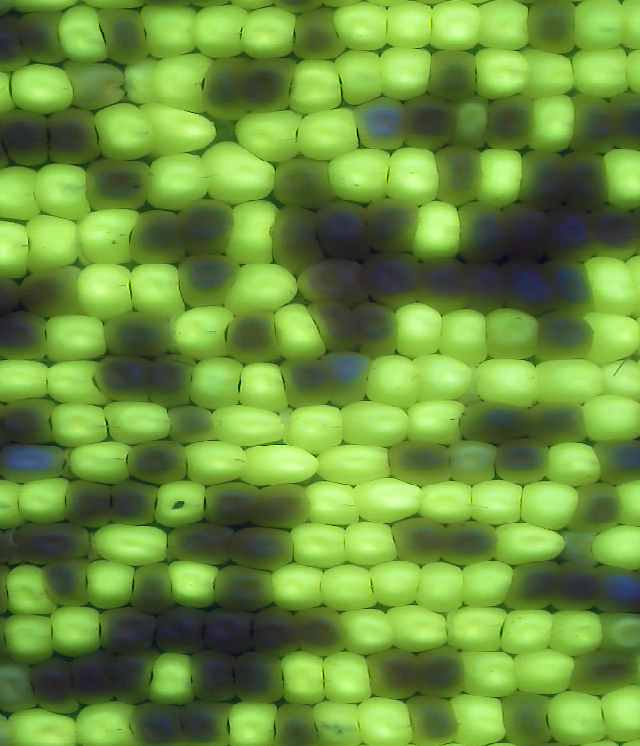fluorescent: (203, 143, 273, 204), (249, 440, 323, 489), (78, 208, 142, 264), (297, 107, 362, 162), (148, 102, 213, 156), (286, 57, 342, 118), (35, 160, 91, 221), (234, 112, 301, 162), (11, 60, 73, 114), (230, 197, 277, 268), (330, 149, 392, 202), (584, 253, 637, 315), (470, 359, 538, 407), (538, 361, 608, 407), (317, 440, 390, 484), (240, 6, 297, 62), (185, 358, 244, 412), (148, 153, 213, 202), (339, 401, 413, 444), (548, 691, 604, 746), (170, 308, 230, 359), (228, 262, 296, 307), (388, 145, 437, 207), (401, 398, 463, 447), (128, 260, 182, 316), (413, 202, 463, 261), (45, 312, 104, 362), (358, 477, 418, 526), (486, 308, 540, 361), (287, 405, 343, 456), (188, 443, 250, 489), (274, 302, 325, 357), (289, 523, 351, 568), (77, 701, 139, 746), (96, 102, 148, 155), (333, 52, 384, 106), (144, 6, 199, 56), (475, 149, 521, 208), (81, 264, 131, 318), (378, 46, 427, 101), (321, 565, 376, 614), (67, 441, 128, 485), (157, 55, 204, 112), (442, 307, 489, 364), (445, 607, 502, 654), (11, 705, 76, 746), (498, 522, 568, 560), (49, 605, 100, 657), (68, 60, 121, 110), (453, 696, 506, 746), (523, 482, 577, 531), (60, 7, 108, 62), (544, 442, 604, 486), (354, 697, 411, 743), (416, 352, 474, 397), (108, 403, 173, 443), (194, 5, 243, 58), (325, 650, 371, 706), (575, 50, 626, 100), (588, 394, 640, 443), (512, 651, 573, 692), (524, 51, 574, 101), (553, 607, 604, 656), (95, 527, 166, 562), (398, 302, 443, 357), (48, 361, 104, 405), (390, 606, 447, 649), (31, 217, 80, 267), (279, 655, 329, 704), (370, 562, 421, 610), (462, 652, 514, 699), (603, 147, 640, 213), (463, 562, 516, 608), (477, 3, 532, 47), (212, 407, 281, 442), (87, 559, 134, 610), (588, 315, 640, 361), (370, 357, 415, 410), (271, 564, 324, 609), (385, 1, 433, 50), (502, 611, 553, 657), (338, 3, 385, 52), (235, 363, 284, 410), (309, 482, 358, 529), (478, 52, 528, 98), (52, 402, 109, 442), (342, 612, 395, 655), (413, 560, 461, 607), (577, 2, 626, 48), (433, 2, 478, 52), (469, 482, 519, 527), (168, 560, 215, 607), (151, 481, 202, 524), (342, 523, 393, 565), (223, 704, 275, 745), (418, 483, 472, 522), (146, 653, 188, 703), (19, 477, 66, 521), (0, 360, 52, 399), (592, 528, 640, 570), (0, 167, 38, 220), (313, 700, 356, 746), (533, 99, 573, 148), (605, 683, 640, 737), (451, 442, 495, 483), (0, 220, 30, 279), (598, 610, 640, 650), (0, 666, 37, 710), (601, 363, 640, 400), (120, 62, 156, 100)
nonfluorescent: (225, 307, 284, 371), (359, 250, 418, 309), (272, 201, 320, 272), (87, 163, 153, 213), (522, 148, 572, 212), (176, 199, 234, 254), (180, 253, 242, 303), (301, 258, 368, 304), (104, 314, 178, 355), (313, 198, 368, 253), (458, 398, 529, 440), (457, 201, 509, 258), (13, 522, 89, 561), (130, 209, 181, 267), (538, 310, 595, 361), (23, 265, 81, 314), (572, 649, 635, 694), (415, 260, 468, 313), (49, 108, 97, 166), (214, 565, 273, 612), (167, 524, 233, 566), (368, 645, 418, 700), (3, 108, 49, 167), (2, 398, 58, 446), (368, 199, 418, 252), (233, 526, 293, 570), (97, 354, 153, 401), (503, 692, 551, 746), (356, 303, 403, 358), (153, 352, 200, 407), (572, 483, 621, 535), (234, 655, 286, 704), (503, 258, 551, 311), (243, 55, 289, 110), (459, 257, 504, 313), (131, 443, 188, 487), (29, 660, 75, 714), (436, 144, 481, 199), (563, 153, 608, 208), (98, 606, 153, 651), (445, 521, 501, 565), (70, 653, 118, 704), (403, 95, 450, 147), (486, 95, 533, 147), (506, 207, 551, 261), (494, 439, 548, 484), (354, 98, 403, 147), (189, 651, 238, 700), (280, 354, 328, 404), (408, 695, 458, 743), (0, 312, 48, 362), (393, 517, 445, 563), (0, 446, 68, 481), (546, 212, 600, 256), (290, 11, 339, 59), (294, 606, 340, 657), (202, 607, 253, 653), (205, 60, 244, 120), (253, 482, 306, 526), (529, 401, 587, 441), (113, 479, 161, 527), (418, 648, 465, 697), (110, 655, 157, 704), (20, 10, 61, 65), (586, 208, 631, 258), (153, 607, 203, 652), (207, 483, 260, 525), (429, 54, 474, 103), (571, 97, 615, 147), (393, 441, 448, 481), (507, 563, 558, 606), (530, 4, 575, 52), (316, 306, 362, 352), (40, 561, 87, 606), (553, 259, 595, 309), (66, 481, 111, 527), (183, 701, 228, 746), (597, 567, 640, 614), (558, 563, 600, 611), (328, 351, 364, 404), (253, 606, 295, 651), (601, 437, 640, 484), (273, 704, 316, 746), (135, 564, 174, 610), (135, 710, 183, 746), (0, 17, 31, 71), (559, 530, 603, 568), (167, 405, 213, 441)
